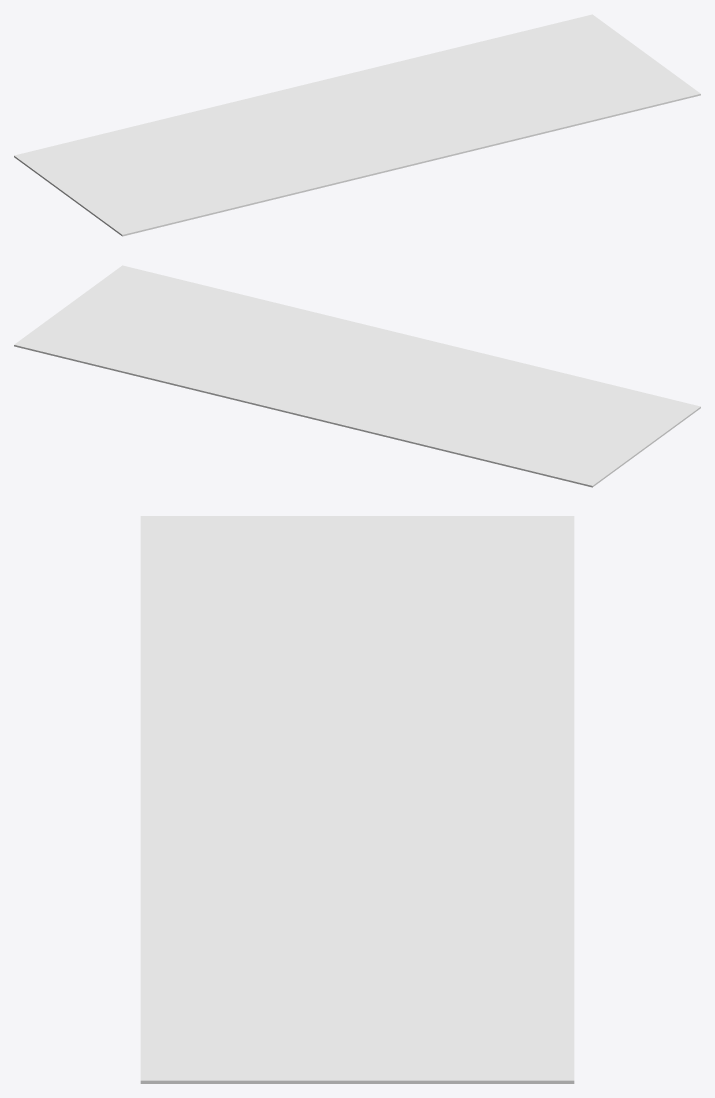
File: Level 165 roll graduation cap.fbx
The picture shows the model from 3 angles, top to bottom: view 1: azimuth 30°, elevation 25°; view 2: azimuth 150°, elevation 25°; view 3: azimuth 270°, elevation 25°; orthographic projection. The views are drawn at different scales.
Parts seen in each view (by area): view 1: Blend; view 2: Blend; view 3: Blend.
Boxes of the visible parts, x1,y1,x2,y2 form: Blend: (14, 14, 700, 236); Blend: (14, 265, 700, 487); Blend: (140, 516, 574, 1083).
Size of what is drawn, in the model's own units: 1163 by 3.15 by 378.
